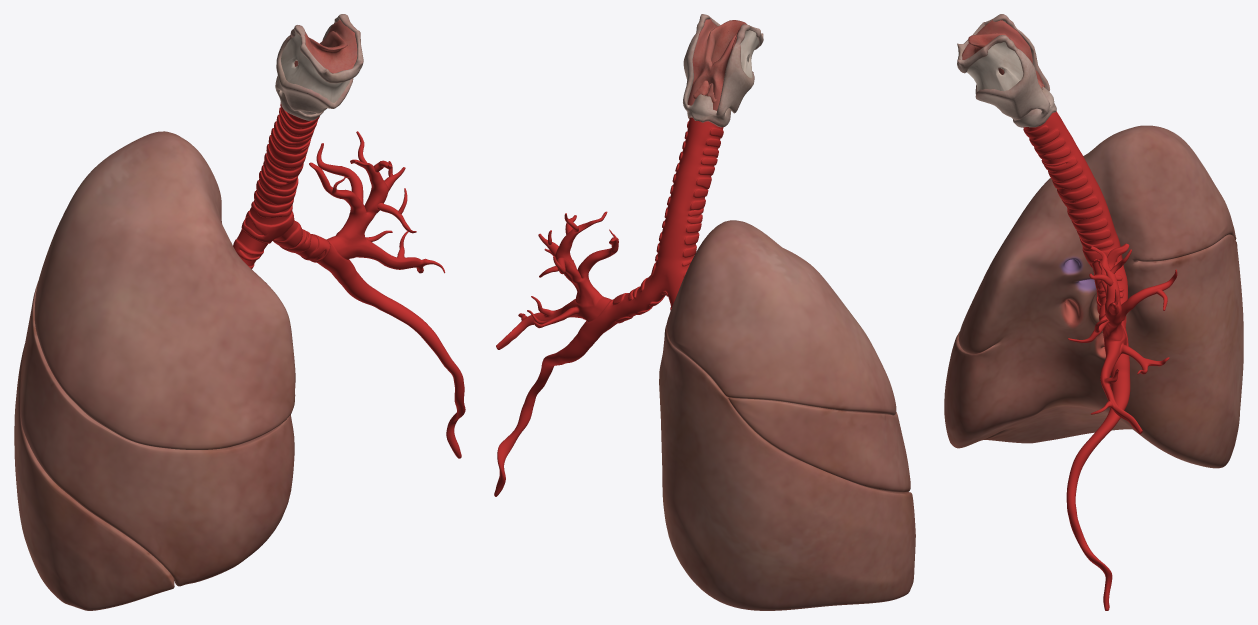
Rendered from compressed_lung.glb.
The picture shows the model from 3 angles, left to right: view 1: azimuth 30°, elevation 25°; view 2: azimuth 150°, elevation 25°; view 3: azimuth 270°, elevation 25°; orthographic projection. The views are drawn at different scales.
Parts seen in each view (by area): view 1: Respiratoy_Lung_Geo_Right_Male_Anatomy_Pack_Complete_V05:Mal, Respiratoy_Trachea_Geo_Male_Anatomy_Pack_Complete_V05:Male_R, Respiratoy_Thyroid_Cartliage_Geo_Male_Anatomy_Pack_Complete_, Respiratoy_Thyroid_Membrane_Geo_Male_Anatomy_Pack_Complete_V, Respiratoy_Epiglotis_Geo_Male_Anatomy_Pack_Complete_V05:Male; view 2: Respiratoy_Lung_Geo_Right_Male_Anatomy_Pack_Complete_V05:Mal, Respiratoy_Trachea_Geo_Male_Anatomy_Pack_Complete_V05:Male_R, Respiratoy_Thyroid_Cartliage_Geo_Male_Anatomy_Pack_Complete_, Respiratoy_Epiglotis_Geo_Male_Anatomy_Pack_Complete_V05:Male, Respiratoy_Thyroid_Membrane_Geo_Male_Anatomy_Pack_Complete_V; view 3: Respiratoy_Lung_Geo_Right_Male_Anatomy_Pack_Complete_V05:Mal, Respiratoy_Trachea_Geo_Male_Anatomy_Pack_Complete_V05:Male_R, Respiratoy_Thyroid_Cartliage_Geo_Male_Anatomy_Pack_Complete_, Respiratoy_Thyroid_Membrane_Geo_Male_Anatomy_Pack_Complete_V, Respiratoy_Epiglotis_Geo_Male_Anatomy_Pack_Complete_V05:Male.
Part boxes in pixels (left/top/right/bottom): Respiratoy_Lung_Geo_Right_Male_Anatomy_Pack_Complete_V05:Mal: left=14, top=131, right=295, bottom=610; Respiratoy_Trachea_Geo_Male_Anatomy_Pack_Complete_V05:Male_R: left=233, top=102, right=465, bottom=458; Respiratoy_Thyroid_Cartliage_Geo_Male_Anatomy_Pack_Complete_: left=275, top=14, right=363, bottom=120; Respiratoy_Thyroid_Membrane_Geo_Male_Anatomy_Pack_Complete_V: left=281, top=31, right=350, bottom=102; Respiratoy_Epiglotis_Geo_Male_Anatomy_Pack_Complete_V05:Male: left=294, top=19, right=357, bottom=73; Respiratoy_Lung_Geo_Right_Male_Anatomy_Pack_Complete_V05:Mal: left=659, top=220, right=915, bottom=610; Respiratoy_Trachea_Geo_Male_Anatomy_Pack_Complete_V05:Male_R: left=494, top=117, right=723, bottom=496; Respiratoy_Thyroid_Cartliage_Geo_Male_Anatomy_Pack_Complete_: left=683, top=14, right=763, bottom=127; Respiratoy_Epiglotis_Geo_Male_Anatomy_Pack_Complete_V05:Male: left=687, top=18, right=746, bottom=110; Respiratoy_Thyroid_Membrane_Geo_Male_Anatomy_Pack_Complete_V: left=704, top=20, right=758, bottom=77; Respiratoy_Lung_Geo_Right_Male_Anatomy_Pack_Complete_V05:Mal: left=944, top=125, right=1243, bottom=468; Respiratoy_Trachea_Geo_Male_Anatomy_Pack_Complete_V05:Male_R: left=1023, top=111, right=1177, bottom=610; Respiratoy_Thyroid_Cartliage_Geo_Male_Anatomy_Pack_Complete_: left=957, top=14, right=1056, bottom=127; Respiratoy_Thyroid_Membrane_Geo_Male_Anatomy_Pack_Complete_V: left=967, top=21, right=1023, bottom=91; Respiratoy_Epiglotis_Geo_Male_Anatomy_Pack_Complete_V05:Male: left=962, top=20, right=1043, bottom=83.
Bounding box in the file's own units: 0.2719 × 0.3283 × 0.172.
Materials: 3 (2 with a texture image).
